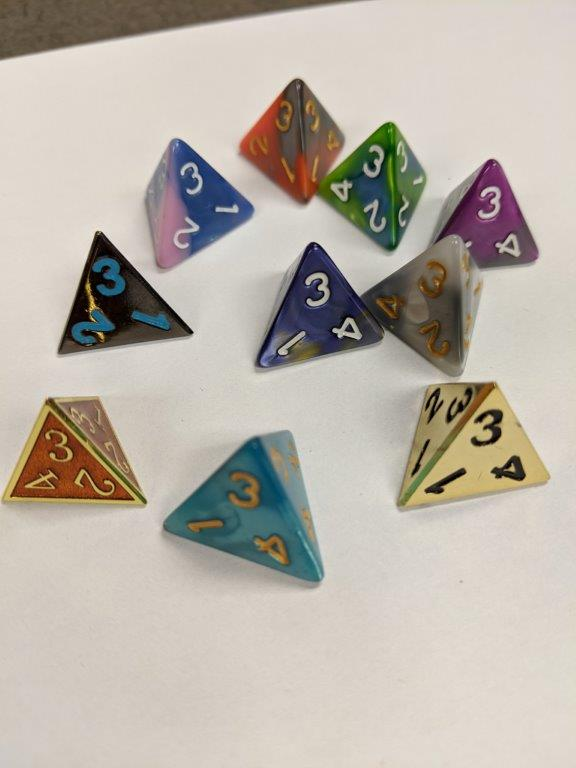d4-3: (158, 427, 332, 592), (392, 377, 552, 508), (53, 227, 194, 360), (361, 231, 483, 377), (252, 240, 383, 372), (1, 393, 147, 507), (143, 134, 254, 269), (319, 117, 428, 253), (241, 74, 342, 207), (431, 155, 539, 268)
